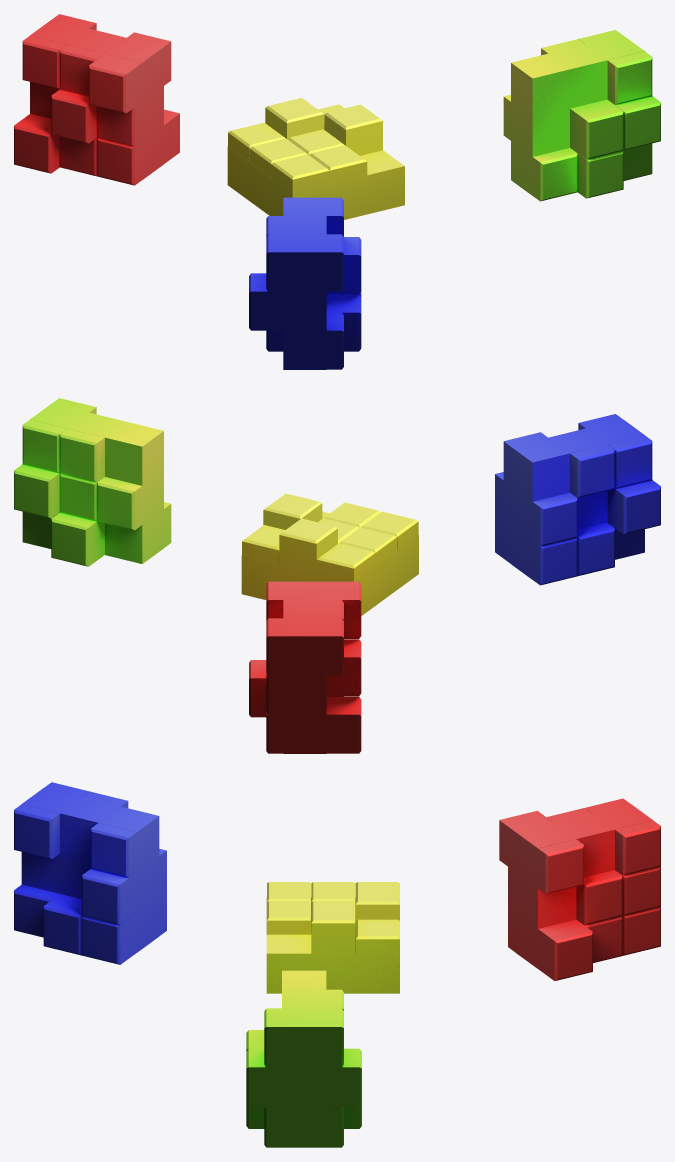
The model's file is stage_1_low_poly_UV.obj.
3 views of the same model, one above another, from view 1: azimuth 30°, elevation 25°; view 2: azimuth 150°, elevation 25°; view 3: azimuth 270°, elevation 25° (orthographic). The views are drawn at different scales.
Visible parts, largest first — view 1: object_3.001_object_3.001_rosso.001, object_1.001_object_1.001_verde.001, object_2.001_object_2.001_blue.001, object_4.001_object_4.001_giallo.001; view 2: object_2.001_object_2.001_blue.001, object_1.001_object_1.001_verde.001, object_3.001_object_3.001_rosso.001, object_4.001_object_4.001_giallo.001; view 3: object_3.001_object_3.001_rosso.001, object_2.001_object_2.001_blue.001, object_1.001_object_1.001_verde.001, object_4.001_object_4.001_giallo.001.
Boxes of the visible parts, x1=… form: object_3.001_object_3.001_rosso.001: x1=14, y1=14, x2=179, y2=185; object_1.001_object_1.001_verde.001: x1=503, y1=30, x2=660, y2=201; object_2.001_object_2.001_blue.001: x1=249, y1=197, x2=361, y2=369; object_4.001_object_4.001_giallo.001: x1=227, y1=98, x2=404, y2=219; object_2.001_object_2.001_blue.001: x1=495, y1=414, x2=660, y2=585; object_1.001_object_1.001_verde.001: x1=14, y1=398, x2=171, y2=566; object_3.001_object_3.001_rosso.001: x1=249, y1=581, x2=361, y2=753; object_4.001_object_4.001_giallo.001: x1=241, y1=493, x2=418, y2=615; object_3.001_object_3.001_rosso.001: x1=499, y1=798, x2=660, y2=980; object_2.001_object_2.001_blue.001: x1=14, y1=782, x2=166, y2=964; object_1.001_object_1.001_verde.001: x1=246, y1=970, x2=361, y2=1147; object_4.001_object_4.001_giallo.001: x1=266, y1=882, x2=399, y2=993.
Size of the model in its own units: 67.1 by 15 by 72.87.
4 materials, 4 textured.
